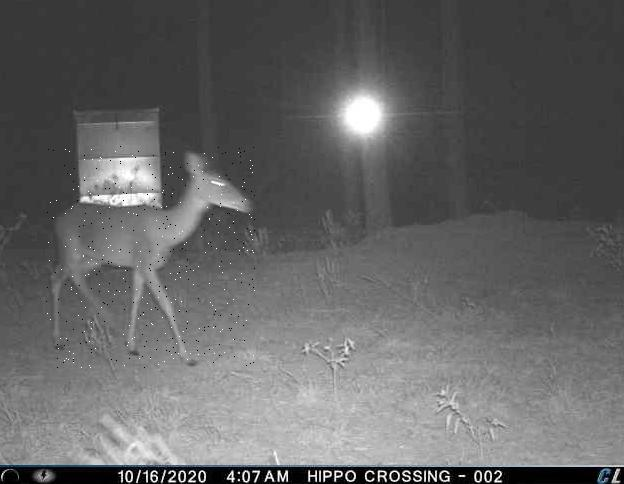Deer: (46, 146, 255, 368)
